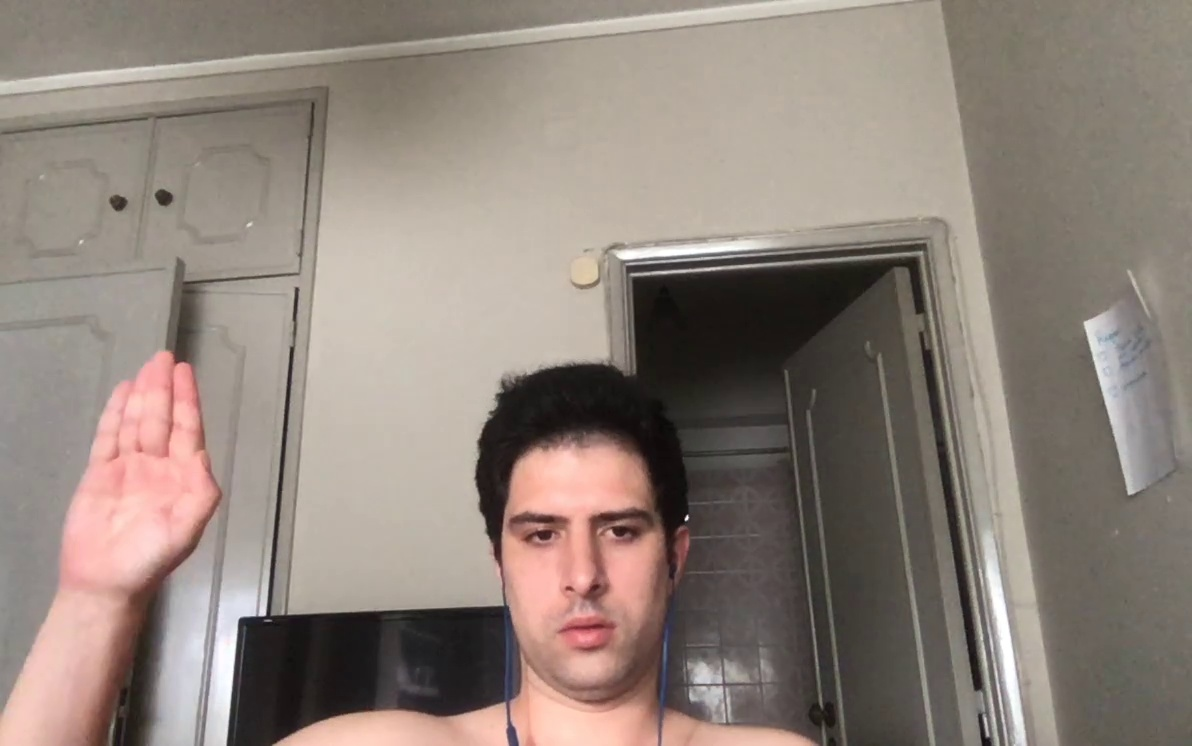b: (59, 353, 227, 592)
